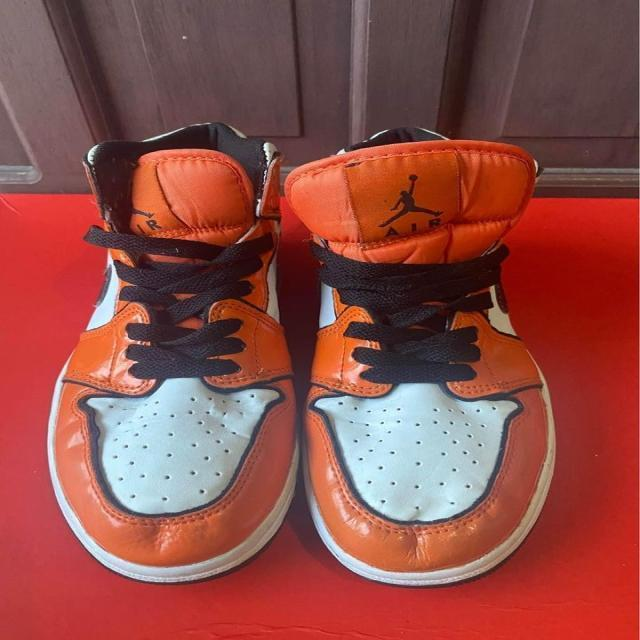nike fake jordan 1: (279, 125, 564, 588), (40, 119, 312, 588)
